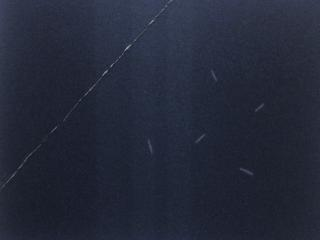crack: (0, 0, 172, 190)
scratch: (207, 66, 223, 87), (238, 166, 255, 176), (195, 133, 207, 143), (254, 102, 264, 112), (147, 140, 154, 154)
